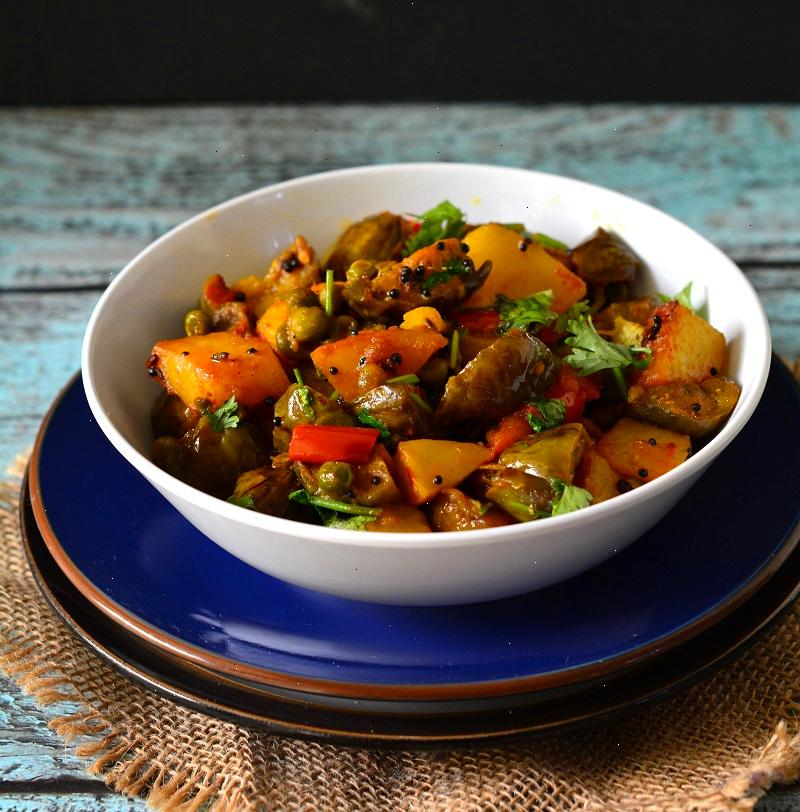aloo sabji: (147, 219, 718, 565)
